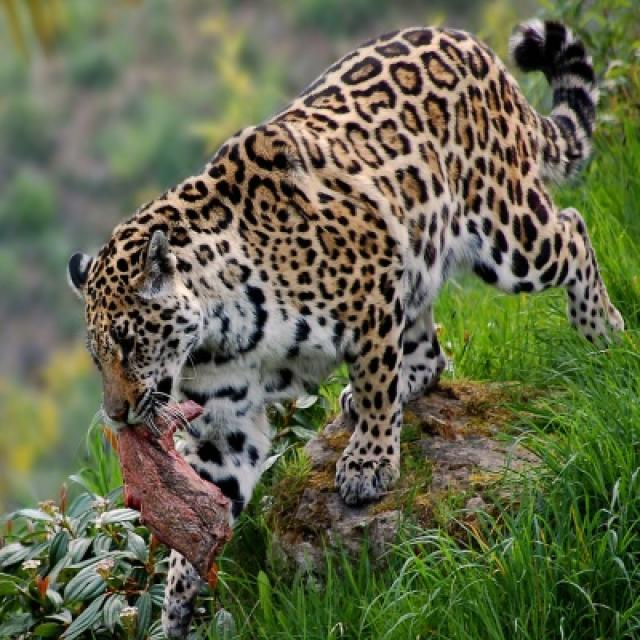Jaguar: (70, 18, 626, 603)
